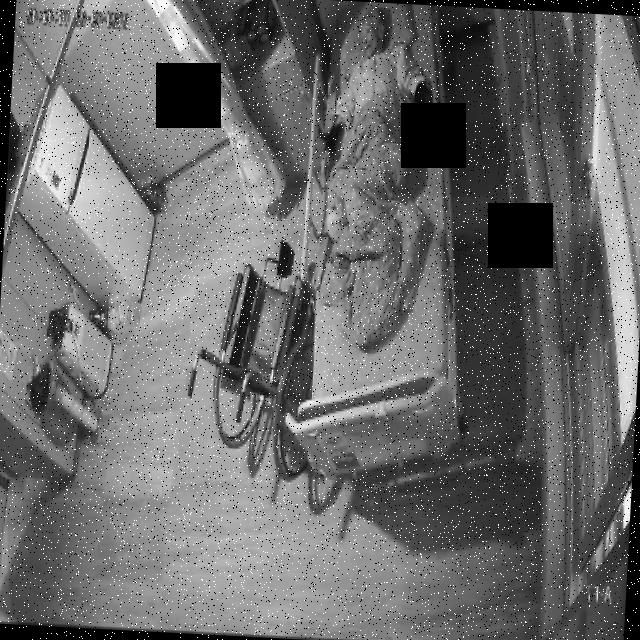bed: (296, 0, 478, 476)
lie: (314, 2, 441, 354)
patient: (318, 1, 438, 157)
